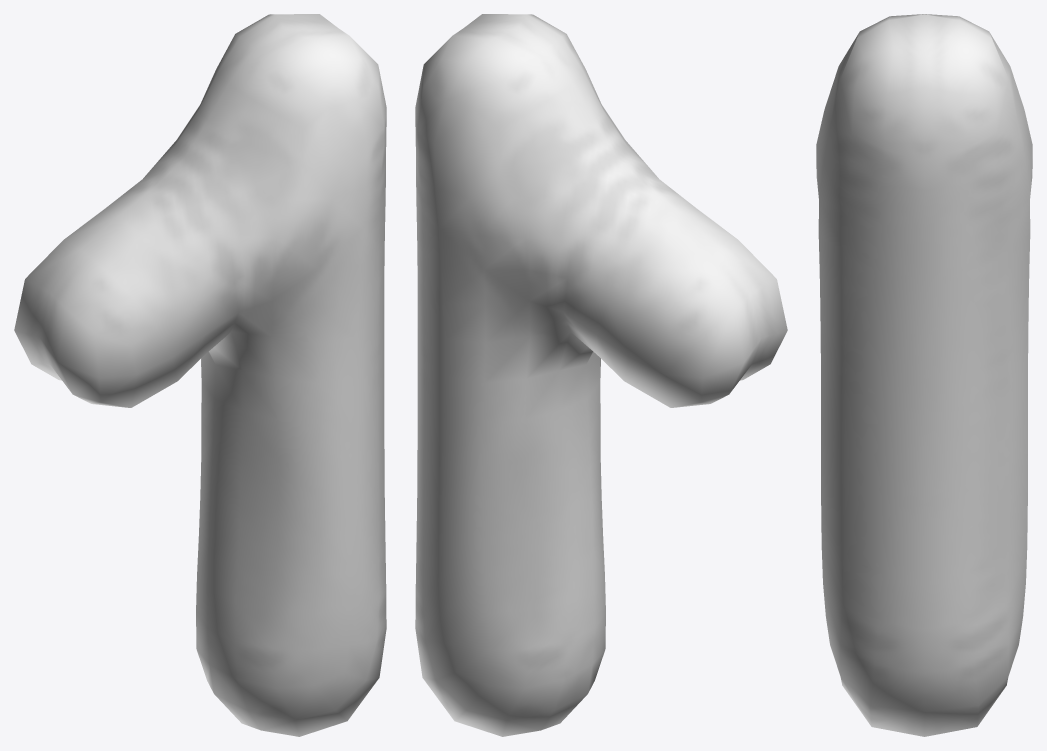
File: LettersBalloon01_1.FBX
3 renders of one model, left to right at view 1: azimuth 30°, elevation 25°; view 2: azimuth 150°, elevation 25°; view 3: azimuth 270°, elevation 25°, orthographic.
Visible parts, largest first — view 1: LettersBalloon01_1; view 2: LettersBalloon01_1; view 3: LettersBalloon01_1.
Boxes of the visible parts, box(x1,y1,x2,y2) form: LettersBalloon01_1: box(14, 14, 386, 736); LettersBalloon01_1: box(415, 14, 787, 736); LettersBalloon01_1: box(816, 14, 1032, 736).
Size of what is drawn, in the model's own units: 0.2467 by 0.4862 by 0.134.
